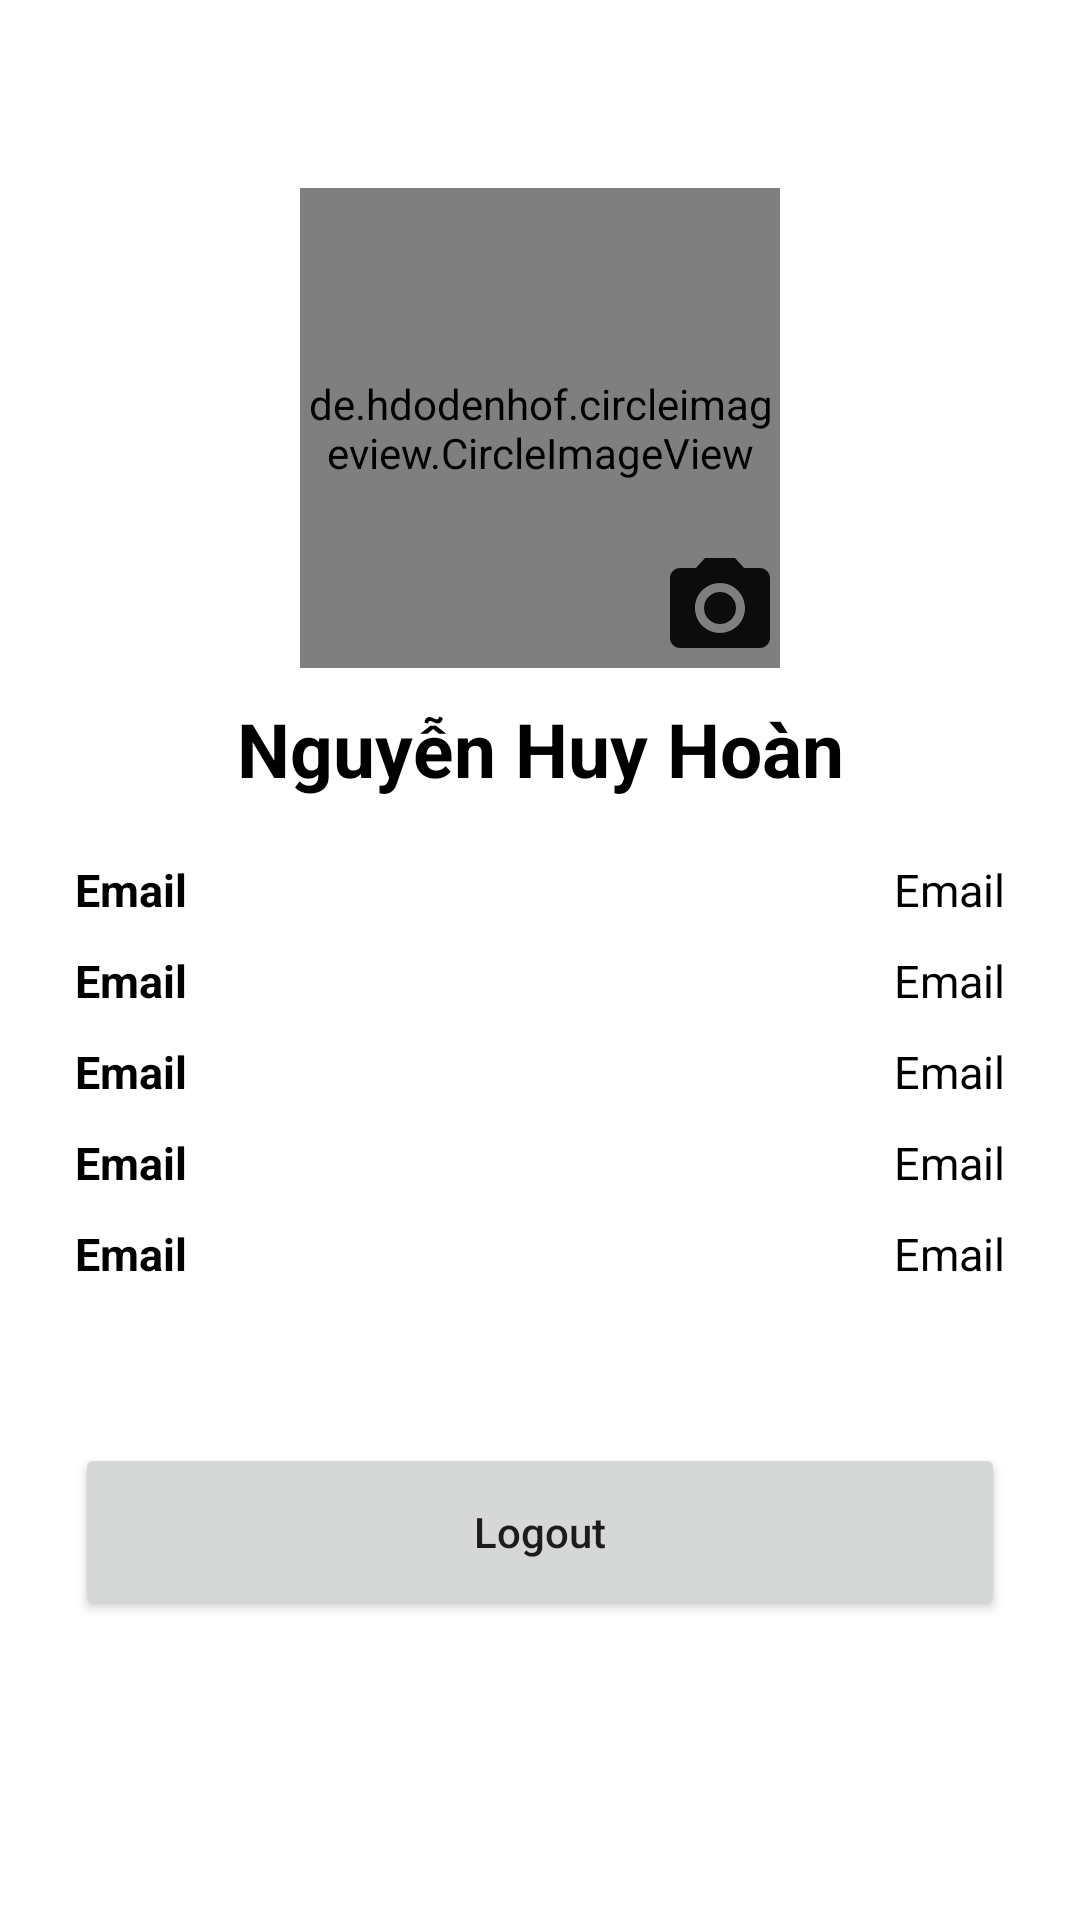

Where to tap for icons on this 1080w x 1920h app screen, as point (x, y):
camera: point (720, 603)
